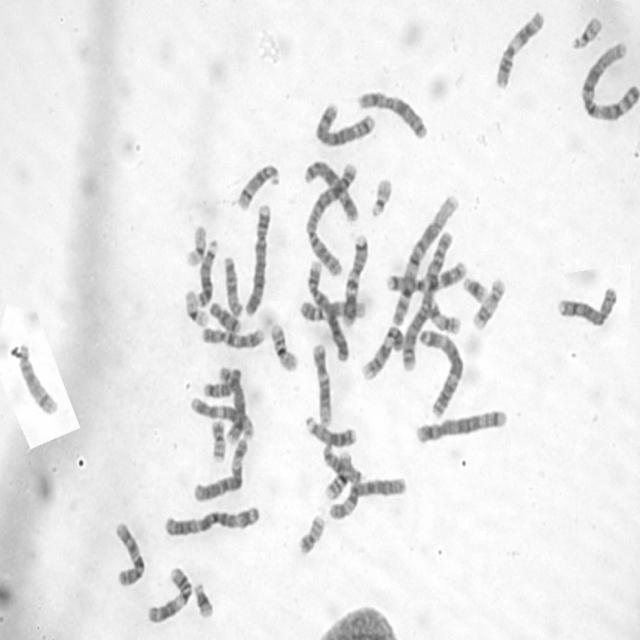A1: (391, 193, 460, 327), (578, 40, 640, 122)
A2: (400, 229, 455, 373), (304, 160, 359, 280)
A3: (417, 328, 465, 419), (164, 506, 261, 538)
B4: (306, 260, 350, 363), (244, 202, 272, 316)
B5: (415, 409, 508, 445), (313, 102, 376, 146)
C10: (112, 520, 146, 589), (201, 326, 266, 350)
C11: (494, 12, 546, 89), (144, 566, 192, 625)
C12: (189, 397, 255, 440), (311, 344, 333, 428)
C6: (191, 437, 251, 504), (328, 475, 407, 521)
C7: (385, 257, 469, 294), (342, 235, 370, 328)
C8: (555, 286, 619, 330), (219, 367, 247, 447)
C9: (359, 325, 405, 383), (298, 296, 367, 322)
D13: (305, 413, 358, 448), (196, 239, 218, 308)
D14: (17, 345, 61, 417), (237, 163, 281, 211)
D15: (322, 442, 363, 486), (223, 255, 244, 317)
E16: (269, 322, 300, 374), (323, 451, 352, 503)
E17: (472, 277, 507, 331), (426, 300, 462, 334)
E18: (208, 300, 242, 334), (204, 369, 242, 398)
F19: (183, 289, 211, 329), (185, 225, 207, 267)
F20: (298, 513, 326, 558), (209, 419, 227, 464)
G21: (193, 582, 217, 620), (463, 275, 490, 305)
G22: (571, 16, 604, 52), (370, 177, 393, 220)
X: (303, 156, 360, 225), (356, 90, 429, 142)
